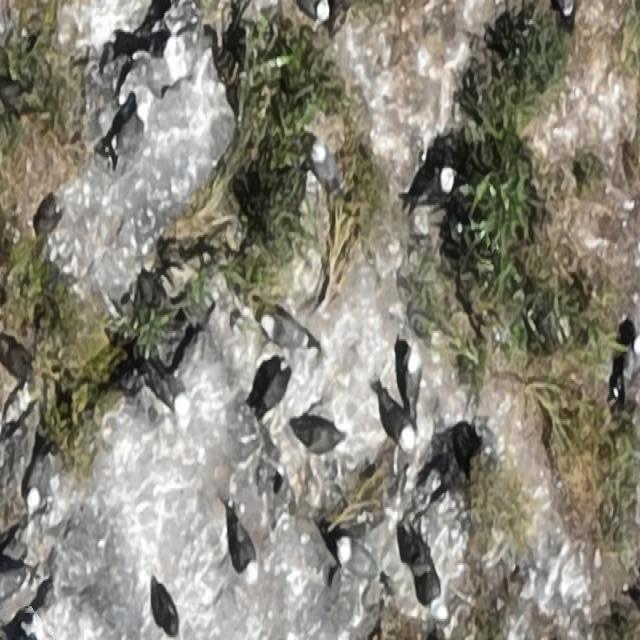umineko: (413, 554, 447, 623), (381, 393, 419, 453), (109, 98, 148, 152), (612, 338, 640, 402), (261, 314, 309, 351), (152, 369, 190, 415), (415, 167, 460, 204), (232, 518, 256, 585), (338, 540, 377, 580), (27, 442, 49, 511), (402, 342, 422, 411), (312, 146, 337, 188), (296, 1, 326, 22), (556, 0, 573, 15)
